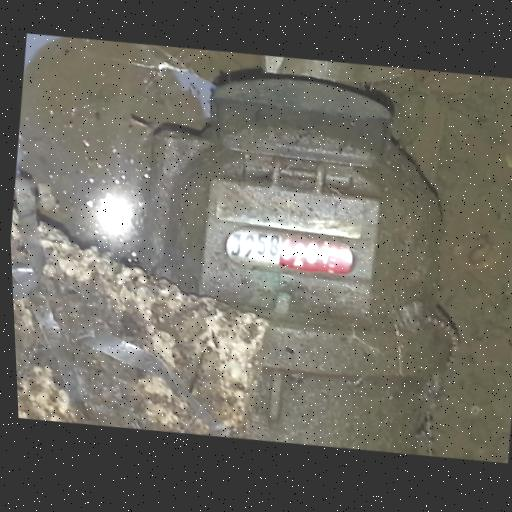0: (303, 239, 321, 272)
2: (290, 238, 308, 271)
3: (226, 228, 245, 259)
4: (315, 240, 333, 274)
5: (252, 231, 271, 263)
6: (277, 235, 295, 268)
8: (265, 233, 284, 265)
9: (240, 230, 259, 262)
border_water_meter_number: (221, 221, 362, 289)
